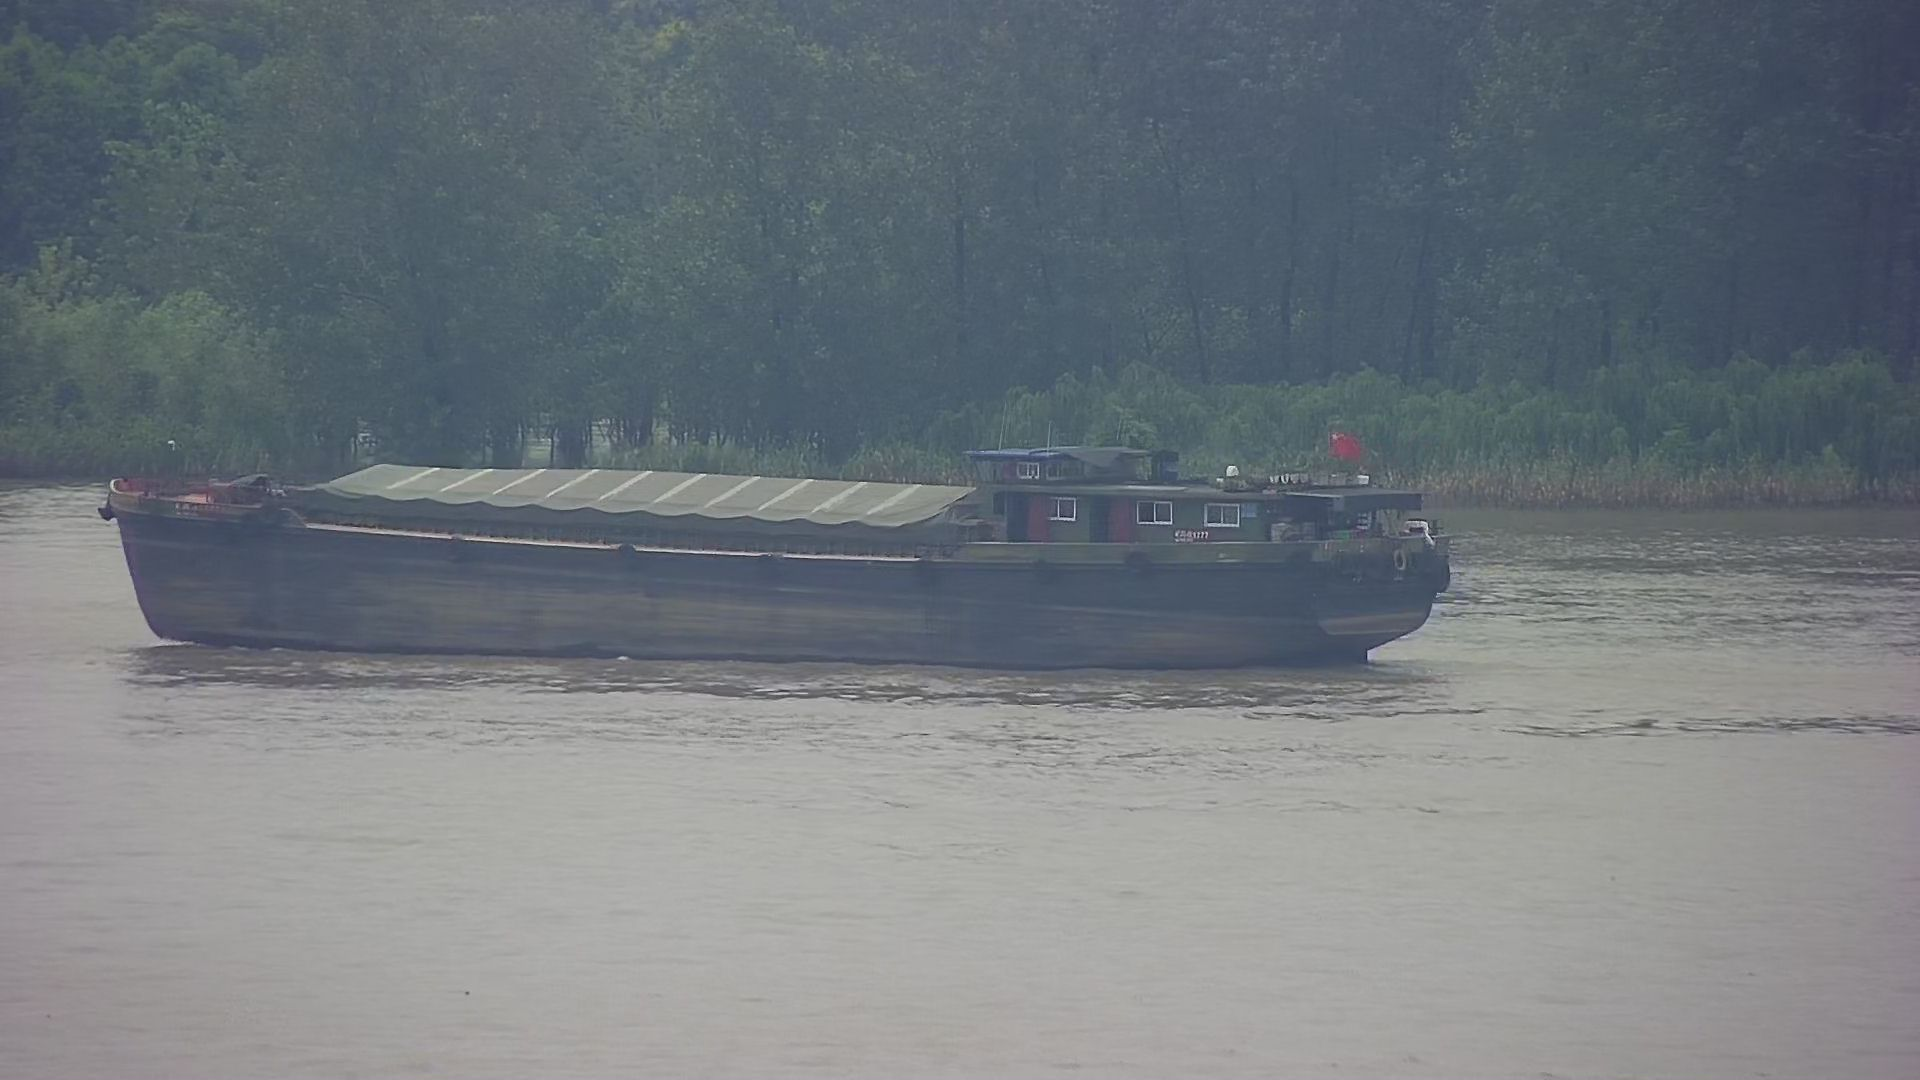ship: (88, 419, 1472, 680)
